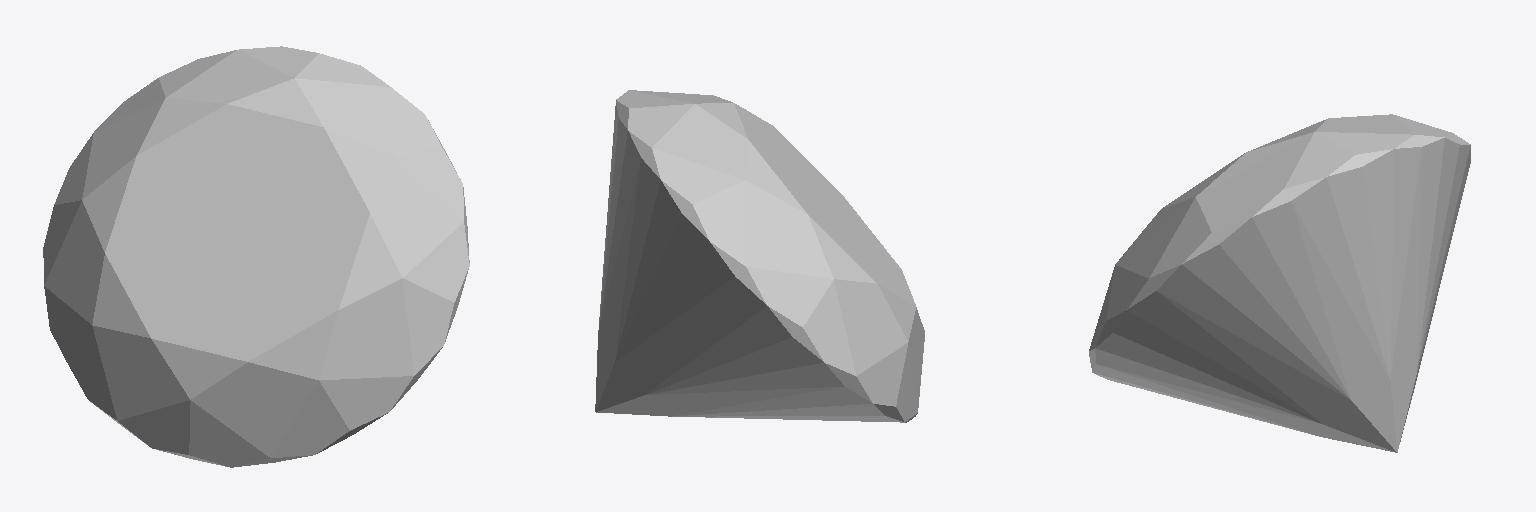
File: Diamante.obj
3 views of the same model, side by side, from view 1: azimuth 30°, elevation 25°; view 2: azimuth 150°, elevation 25°; view 3: azimuth 270°, elevation 25° (orthographic).
Parts seen in each view (by area): view 1: Mesh1 Pedra1 Component_17_1 Model; view 2: Mesh1 Pedra1 Component_17_1 Model; view 3: Mesh1 Pedra1 Component_17_1 Model.
Part boxes in pixels (left/top/right/bottom): Mesh1 Pedra1 Component_17_1 Model: left=43, top=46, right=469, bottom=467; Mesh1 Pedra1 Component_17_1 Model: left=595, top=90, right=924, bottom=422; Mesh1 Pedra1 Component_17_1 Model: left=1089, top=114, right=1470, bottom=452.
Size of the model in its own units: 0.4585 by 0.418 by 0.4788.